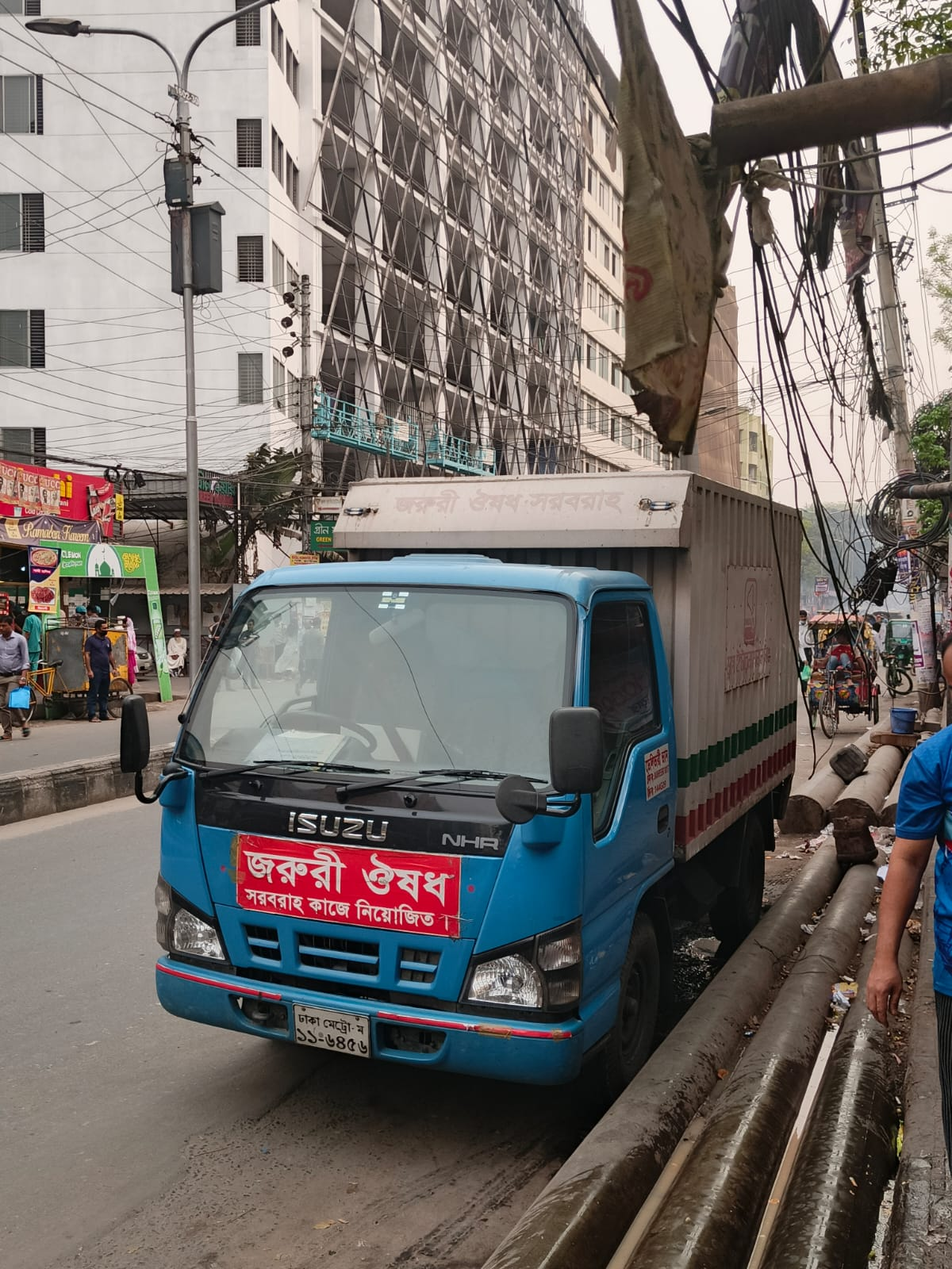Truck: (155, 449, 814, 1131)
